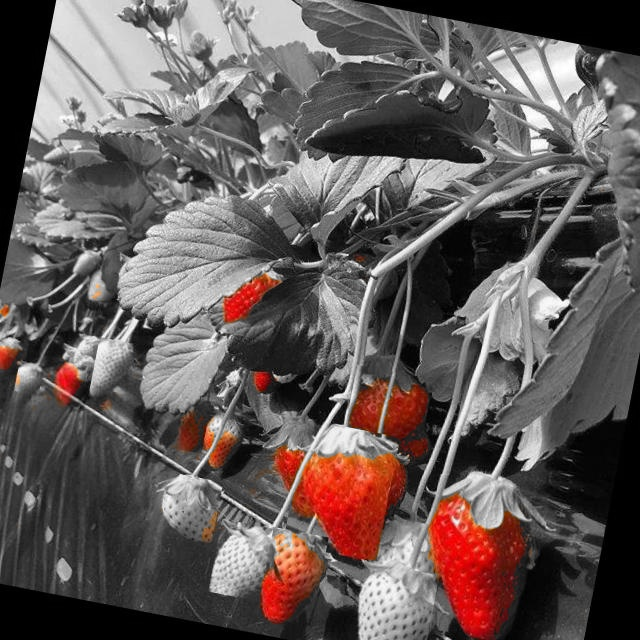ripe: (410, 473, 551, 640), (282, 418, 400, 562), (248, 525, 328, 626), (345, 365, 434, 442), (210, 264, 284, 342), (178, 397, 212, 454), (50, 361, 88, 408), (0, 337, 29, 373)
unripe: (347, 559, 440, 640), (148, 471, 224, 544), (208, 520, 274, 602), (378, 516, 444, 574), (89, 338, 138, 403), (71, 248, 105, 286), (86, 270, 119, 305), (13, 360, 44, 396)
